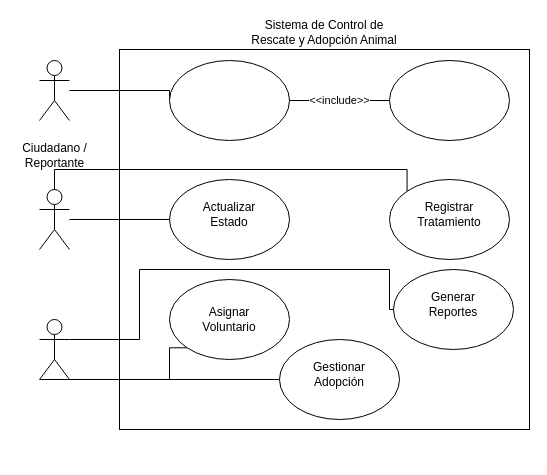
This 547x475 diagram has some shape labels left out. Here are the shapes that lost their labels. From the top down, the centre of each, then its label:
pixel 229 100: Registrar Caso de Rescate
pixel 449 100: Categorizar Especie
pixel 54 219: Voluntario / Veterinario
pixel 54 349: Administrador del Refugio
